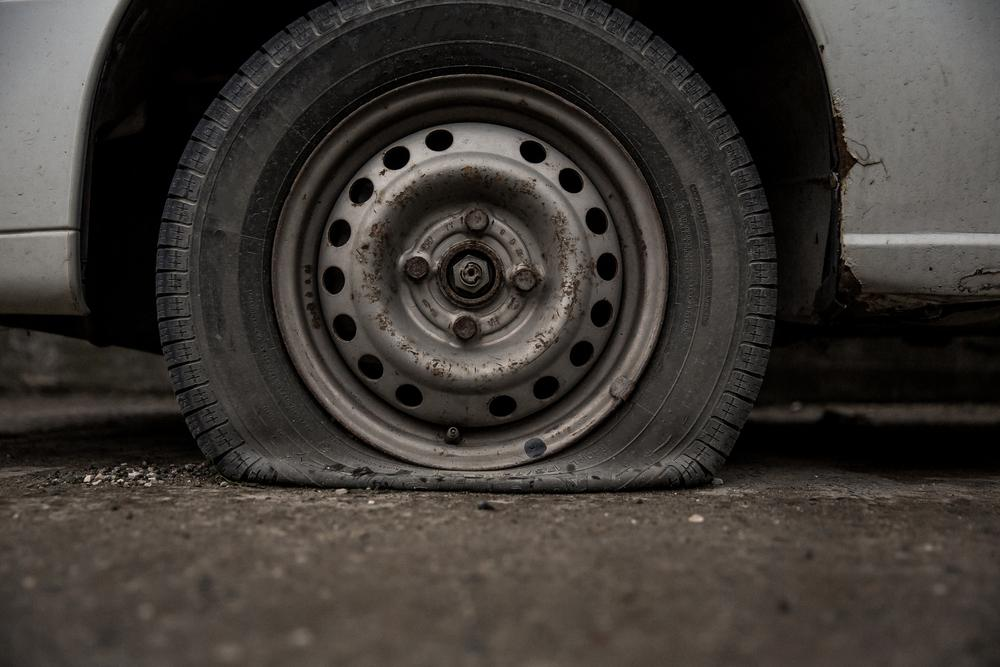tire flat: (154, 0, 774, 496)
